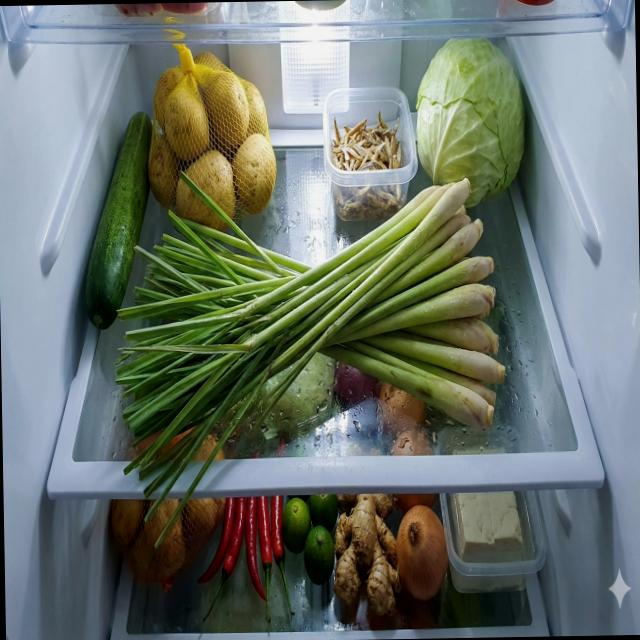anchovies: (328, 108, 405, 222)
cabbage: (414, 34, 526, 210)
chili: (196, 496, 294, 624)
cucumber: (80, 109, 156, 331)
ginger: (331, 489, 402, 618)
lemongrass: (110, 163, 508, 554)
lime: (280, 494, 340, 586)
onion: (395, 504, 450, 602)
potato: (148, 52, 278, 230)
tofu: (448, 491, 524, 591)
